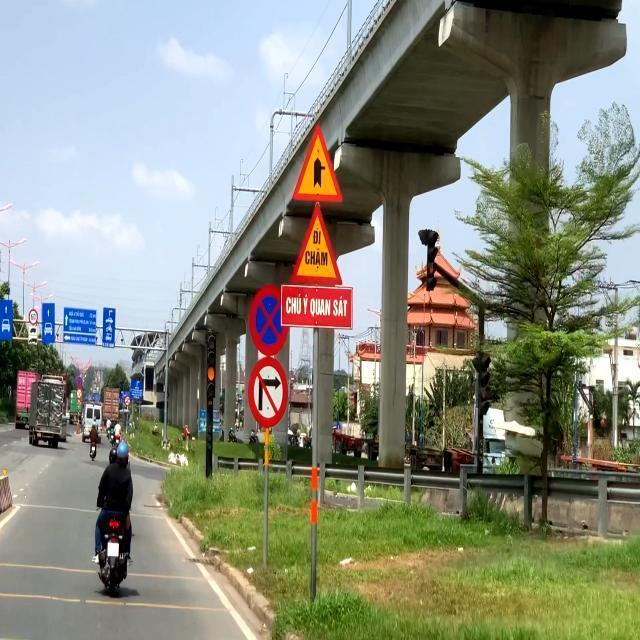123b-cam-re-phai: (248, 360, 292, 424)
130-cam-dung-va-do-xe: (252, 288, 294, 352)
207-giao-nhau-voi-duong-khong-uu-tien: (290, 128, 344, 206)
245-di-cham: (286, 208, 344, 282)
